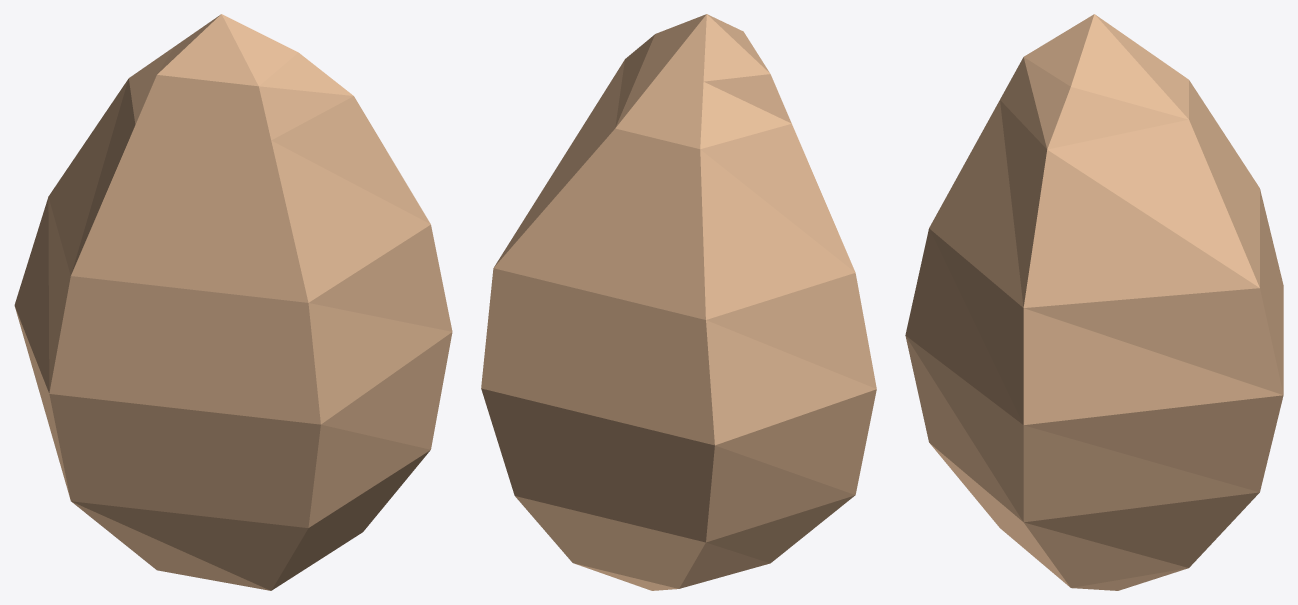
The model's file is inv_egg.obj.
The picture shows the model from 3 angles, left to right: view 1: azimuth 30°, elevation 25°; view 2: azimuth 150°, elevation 25°; view 3: azimuth 270°, elevation 25°; orthographic projection. The views are drawn at different scales.
Bounding box in the file's own units: 0.1328 × 0.2031 × 0.125.
